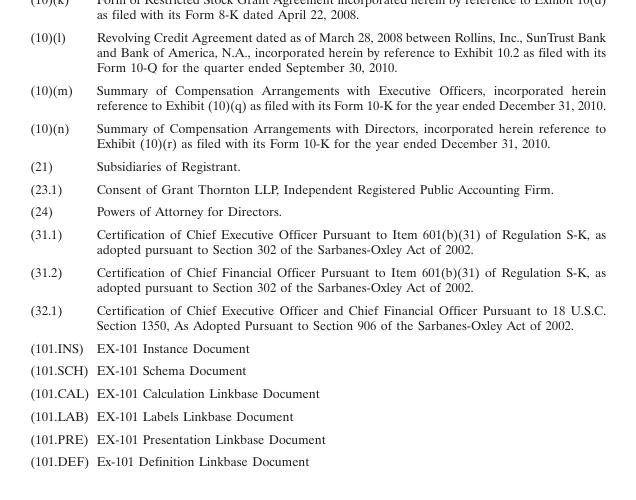table: (29, 28, 605, 468)
table column: (91, 28, 605, 468), (29, 28, 91, 468)
table row: (29, 28, 605, 78), (29, 78, 605, 116), (29, 116, 605, 154), (29, 222, 605, 260), (29, 260, 605, 298), (29, 298, 605, 335), (29, 176, 605, 199), (29, 199, 605, 222), (29, 335, 605, 358), (29, 358, 605, 381), (29, 381, 605, 404), (29, 426, 605, 449), (29, 154, 605, 176), (29, 404, 605, 426), (29, 449, 605, 468)
